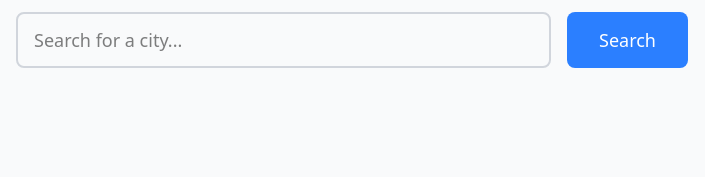
SearchBar › handles keyboard navigation with ArrowDown
This screenshot has width=705, height=177.
Type "Vi" into the field with placeholder "Search for a city...". click: (284, 40)
box: [16, 12, 551, 68]
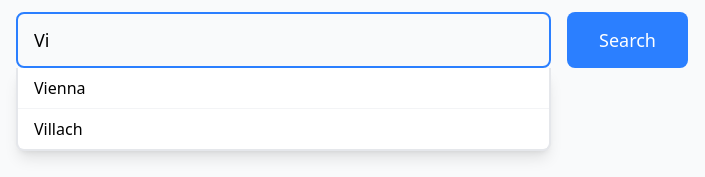
Now the text "Vienna" is shown, box [18, 68, 549, 109]
Press Arrowdown
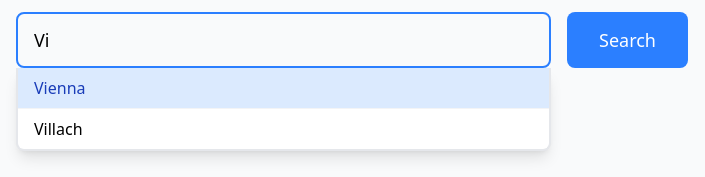
Now the text "Vienna" has class "bg-blue-100", box [18, 68, 549, 109]
